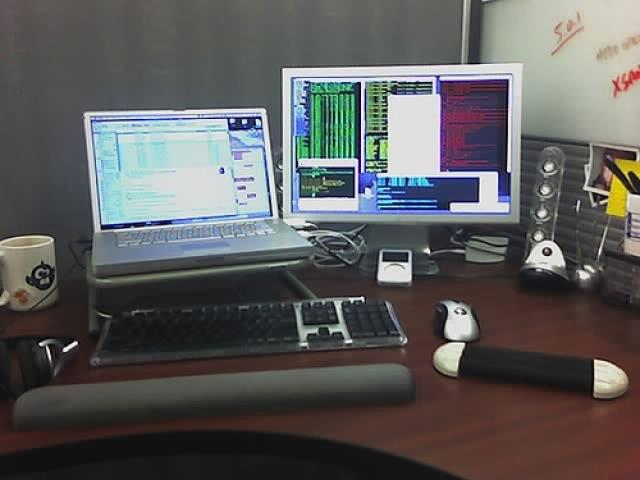AIO PC-Monitor-TV: (279, 61, 522, 225)
